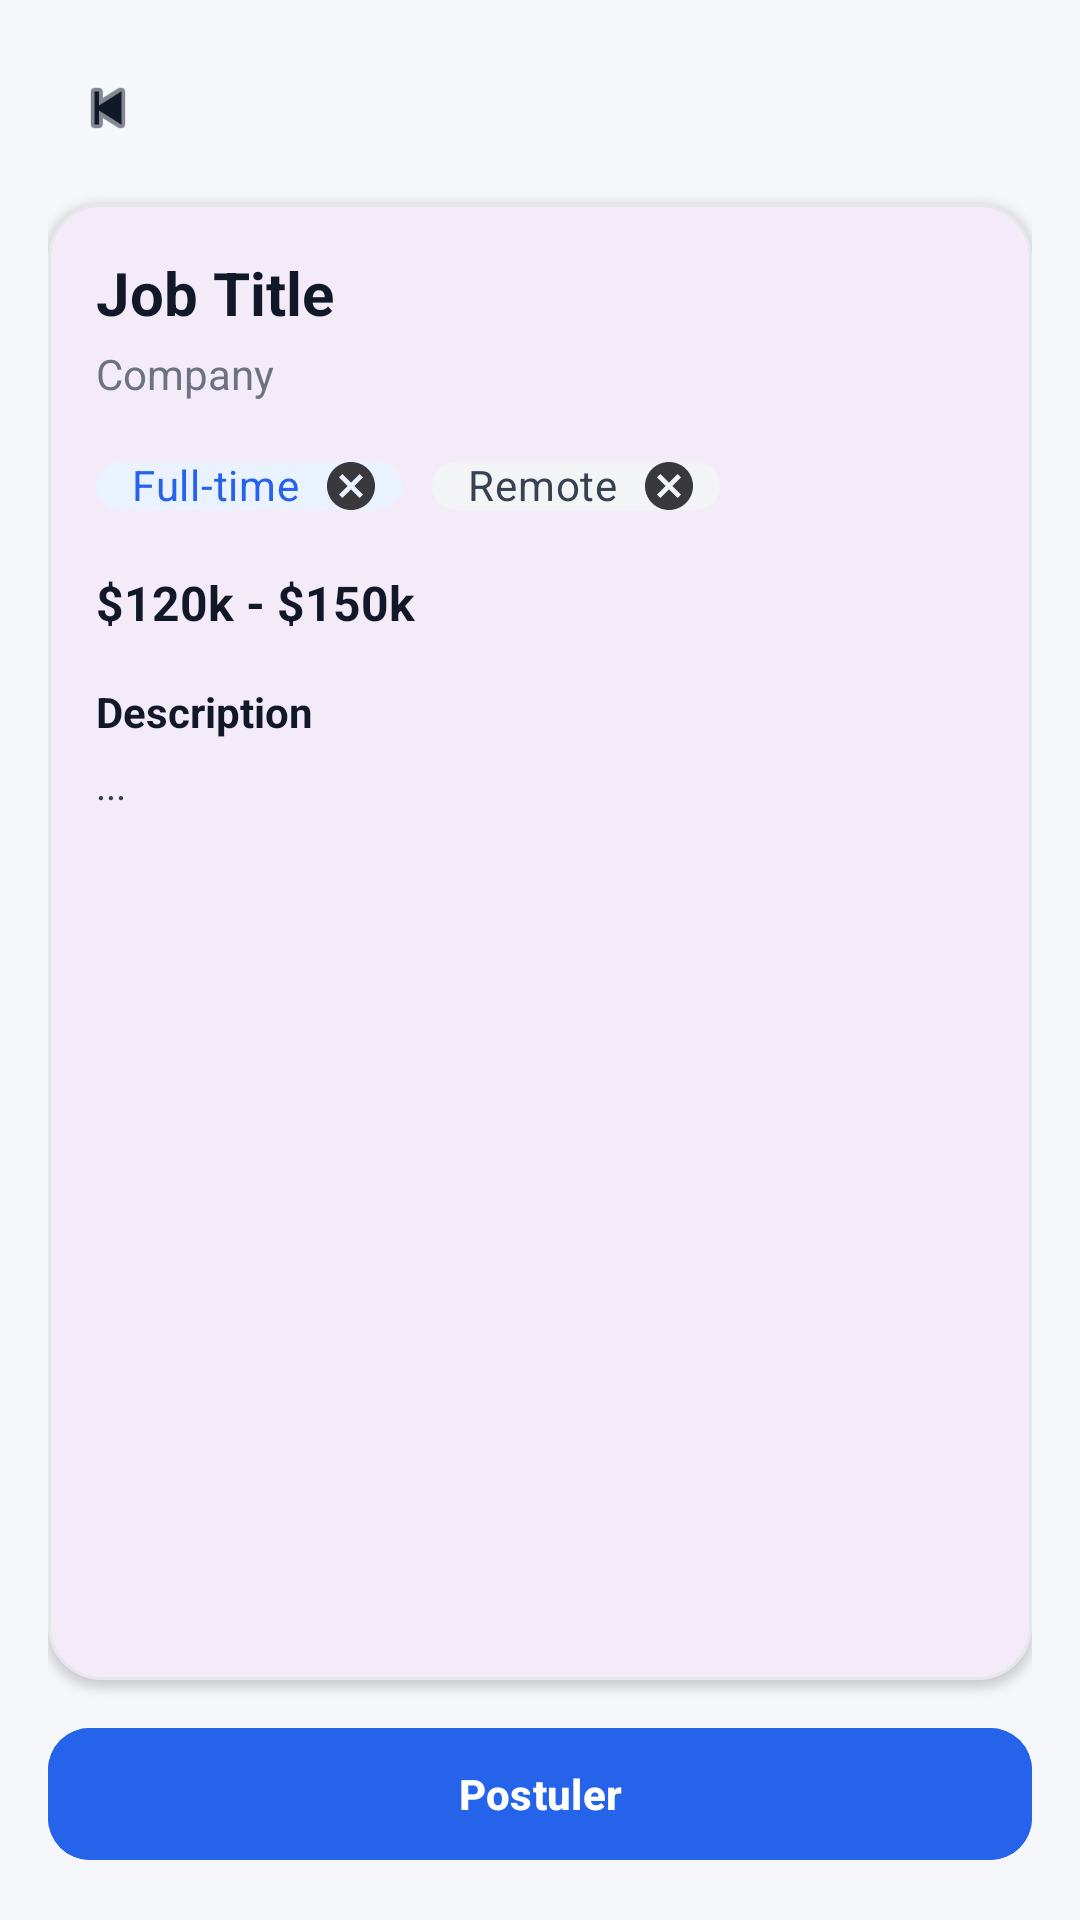

Locate icon controls on the screen. Image size 1080px x 1920px, boxes as [x1=x1, y1=y1, x2=x2, y2=y2].
previous: [x1=91, y1=88, x2=125, y2=128]
